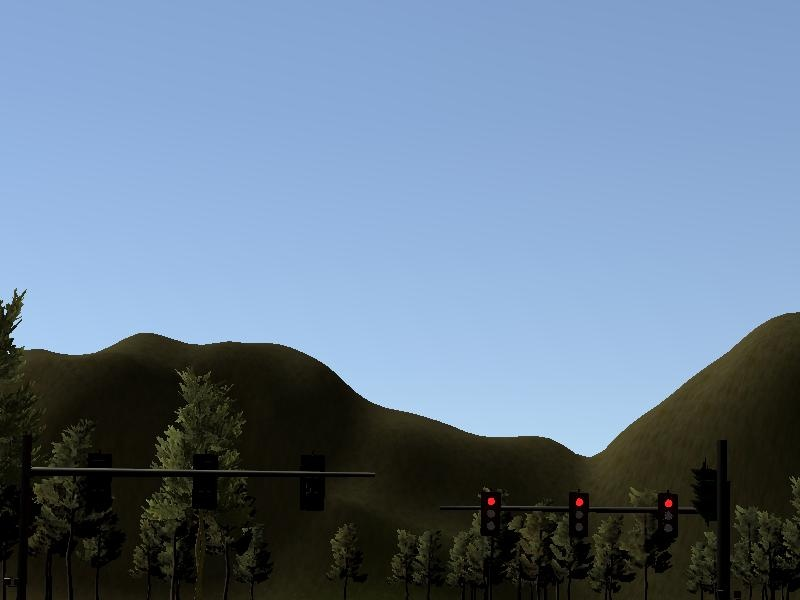red: (480, 492, 501, 536), (659, 494, 679, 539), (569, 494, 588, 539)
